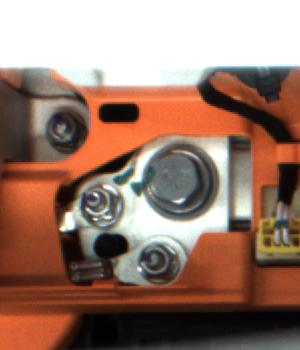screw_s: (134, 239, 182, 283), (40, 108, 82, 155), (78, 187, 122, 226)
